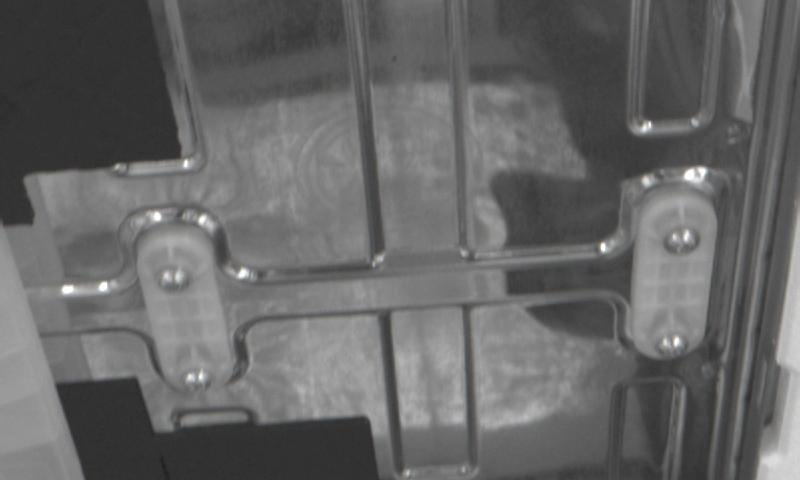vida-ok: (150, 257, 196, 301), (657, 218, 703, 261), (175, 362, 220, 402), (647, 328, 692, 367)
